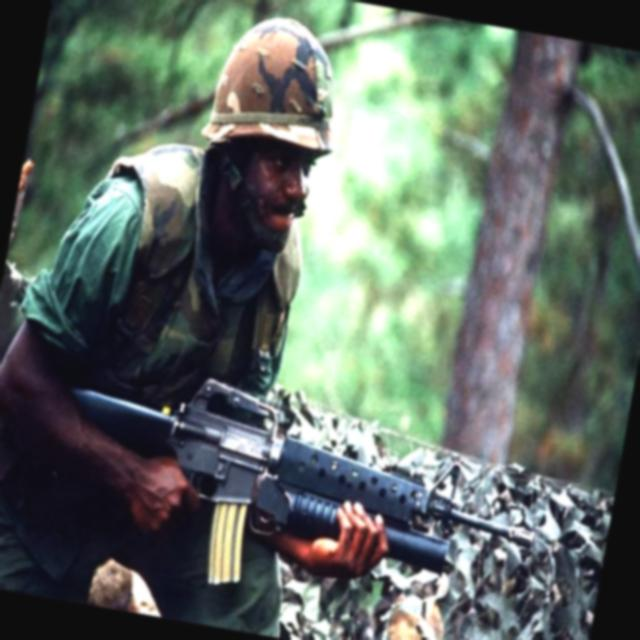m16: (8, 299, 587, 640)
